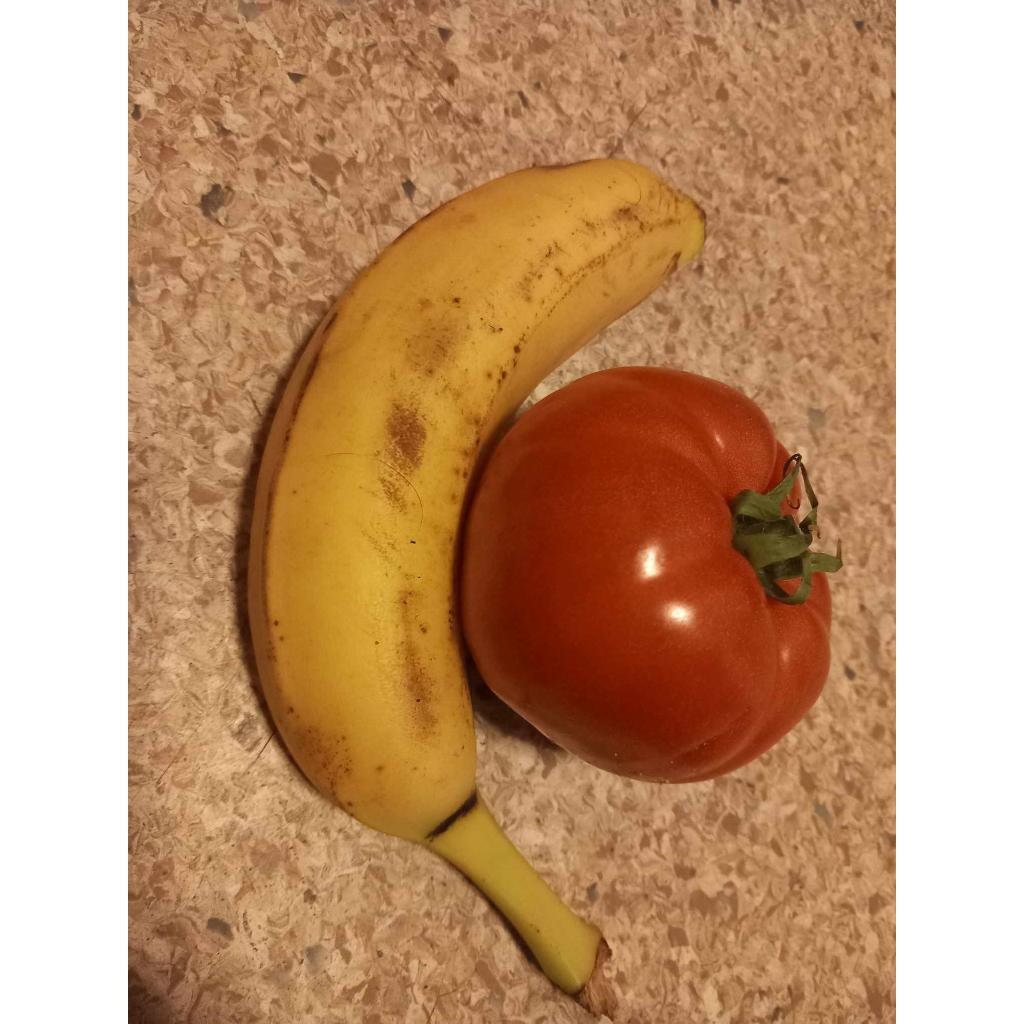banana: (248, 160, 704, 994)
tomato: (462, 368, 840, 782)
